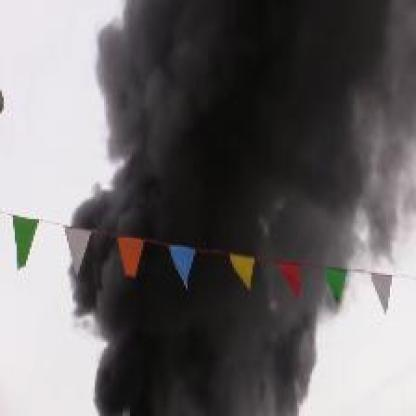smoke: (65, 0, 405, 412)
